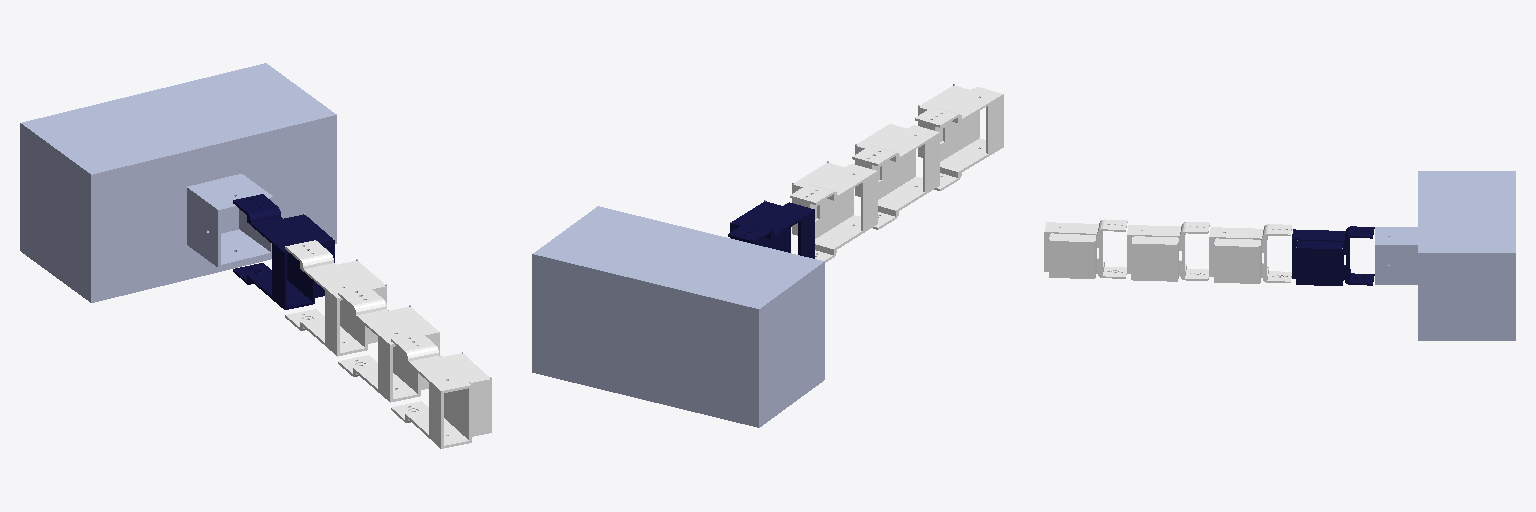
--- What the picture shows (computed from the rendered views, not written in the file) ---
Views: 3 orthographic renders of the robot side by side, from view 1: azimuth 30°, elevation 25°; view 2: azimuth 150°, elevation 25°; view 3: azimuth 270°, elevation 25°.
Model robot with 21 links and 20 joints (4 revolute, 1 continuous, 15 fixed), rooted at base_link, posed all joints at 0.
Links seen in each view (by area): view 1: base_link, link4, link1, link2, link3; view 2: base_link, link4, link3, link2, link1; view 3: base_link, link4, link3, link2, link1.
Boxes of the visible links, x1,y1,x2,y2 form: base_link: (20, 63, 336, 302); link4: (391, 332, 491, 448); link1: (233, 194, 334, 309); link2: (285, 240, 386, 356); link3: (338, 286, 439, 402); base_link: (532, 206, 824, 427); link4: (915, 86, 1003, 190); link3: (852, 124, 939, 229); link2: (790, 163, 877, 262); link1: (728, 201, 814, 258); base_link: (1375, 171, 1515, 340); link4: (1044, 219, 1127, 278); link3: (1127, 222, 1209, 281); link2: (1209, 224, 1291, 283); link1: (1292, 226, 1374, 285).
Size in the robot's own frame: 0.2 by 0.4851 by 0.1 metres.
20 mesh visuals loaded from 21 distinct referenced files (20 binary STL); not drawn: 1 (reference not matched to a file when rendering).

URDF robot description (robot):
<?xml version="1.0" encoding="utf-8"?>
<!-- This URDF was automatically created by SolidWorks to URDF Exporter! Originally created by Stephen Brawner ([email redacted]) 
     Commit Version: 1.6.0-4-g7f85cfe  Build Version: 1.6.7995.38578
     For more information, please see http://wiki.ros.org/sw_urdf_exporter -->
<robot
  name="robot">
  <link
    name="base_link">
    <inertial>
      <origin
        xyz="0.0767869538456745 0.130679643791146 0.117001328831927"
        rpy="0 0 0" />
      <mass
        value="2.01544073009183" />
      <inertia
        ixx="0.00342121118023554"
        ixy="7.6215930437138E-20"
        ixz="-6.41720559009519E-19"
        iyy="0.00842121118023554"
        iyz="9.0429788488783E-20"
        izz="0.00834287663238851" />
    </inertial>
    <visual>
      <origin
        xyz="0 0 0"
        rpy="0 0 0" />
      <geometry>
        <mesh
          filename="package://robot/meshes/base_link.STL" />
      </geometry>
      <material
        name="base">
        <color
          rgba="0.792156862745098 0.819607843137255 0.933333333333333 1" />
      </material>
    </visual>
    <collision>
      <origin
        xyz="0 0 0"
        rpy="0 0 0" />
      <geometry>
        <mesh
          filename="package://robot/meshes/base_link.STL" />
      </geometry>
    </collision>
  </link>
  <link
    name="link1">
    <inertial>
      <origin
        xyz="-0.0404047213887097 0.0154484736764687 -0.0276170125006411"
        rpy="0 0 0" />
      <mass
        value="0.0515137042914562" />
      <inertia
        ixx="1.69733943850497E-05"
        ixy="9.62296125977832E-07"
        ixz="6.49740529829731E-08"
        iyy="2.64576821046423E-05"
        iyz="1.35130974809218E-08"
        izz="2.12644109140584E-05" />
    </inertial>
    <visual>
      <origin
        xyz="0 0 0"
        rpy="0 0 0" />
      <geometry>
        <mesh
          filename="package://robot/meshes/link1.STL" />
      </geometry>
      <material
        name="joint_1_blue">
        <color
          rgba="0.11 0.11 0.32 1" />
      </material>
    </visual>
    <collision>
      <origin
        xyz="0 0 0"
        rpy="0 0 0" />
      <geometry>
        <mesh
          filename="package://robot/meshes/link1.STL" />
      </geometry>
    </collision>
  </link>
  <joint
    name="joint1"
    type="revolute">
    <origin
      xyz="0.076787 -0.22445 0.10293"
      rpy="3.1416 0 1.4999" />
    <parent
      link="base_link" />
    <child
      link="link1" />
    <axis
      xyz="0 0 -1" />
    <limit
      lower="-3.14"
      upper="3.14"
      effort="100"
      velocity="1" />
  </joint>
  <link
    name="l11">
    <inertial>
      <origin
        xyz="-0.00424576271186444 0.0005 0.000500000000000014"
        rpy="0 0 0" />
      <mass
        value="9.9999999999999E-07" />
      <inertia
        ixx="1.66666666666666E-13"
        ixy="3.5759750509846E-30"
        ixz="-4.97771231194458E-28"
        iyy="1.66666666666663E-13"
        iyz="-3.4912381323187E-29"
        izz="1.66666666666662E-13" />
    </inertial>
    <visual>
      <origin
        xyz="0 0 0"
        rpy="0 0 0" />
      <geometry>
        <mesh
          filename="package://robot/meshes/l11.STL" />
      </geometry>
      <material
        name="">
        <color
          rgba="0.792156862745098 0.819607843137255 0.933333333333333 1" />
      </material>
    </visual>
    <collision>
      <origin
        xyz="0 0 0"
        rpy="0 0 0" />
      <geometry>
        <mesh
          filename="package://robot/meshes/l11.STL" />
      </geometry>
    </collision>
  </link>
  <joint
    name="j11"
    type="fixed">
    <origin
      xyz="-0.022746 0.03 -0.048625"
      rpy="-1.5708 0 -3.1416" />
    <parent
      link="link1" />
    <child
      link="l11" />
    <axis
      xyz="0 0 0" />
  </joint>
  <link
    name="l12">
    <inertial>
      <origin
        xyz="-0.00424576271186443 0.000499999999999973 0.0005"
        rpy="0 0 0" />
      <mass
        value="9.99999999999991E-07" />
      <inertia
        ixx="1.66666666666665E-13"
        ixy="8.08583006419564E-30"
        ixz="-3.38421328339814E-28"
        iyy="1.66666666666665E-13"
        iyz="1.2121848489944E-29"
        izz="1.66666666666665E-13" />
    </inertial>
    <visual>
      <origin
        xyz="0 0 0"
        rpy="0 0 0" />
      <geometry>
        <mesh
          filename="package://robot/meshes/l12.STL" />
      </geometry>
      <material
        name="">
        <color
          rgba="0.792156862745098 0.819607843137255 0.933333333333333 1" />
      </material>
    </visual>
    <collision>
      <origin
        xyz="0 0 0"
        rpy="0 0 0" />
      <geometry>
        <mesh
          filename="package://robot/meshes/l12.STL" />
      </geometry>
    </collision>
  </link>
  <joint
    name="j12"
    type="fixed">
    <origin
      xyz="-0.0650000000000002 0.0337457627118641 -0.0486249999999999"
      rpy="-1.5707963267949 0 1.5707963267949" />
    <parent
      link="link1" />
    <child
      link="l12" />
    <axis
      xyz="0 0 0" />
  </joint>
  <link
    name="l13">
    <inertial>
      <origin
        xyz="-0.0005 0.000500000000000111 -0.000570670988878433"
        rpy="0 0 0" />
      <mass
        value="1.00000000000001E-06" />
      <inertia
        ixx="1.66666666666669E-13"
        ixy="1.84061188400856E-27"
        ixz="2.34922777574817E-27"
        iyy="1.6666666666667E-13"
        iyz="1.03898364163633E-30"
        izz="1.6666666666667E-13" />
    </inertial>
    <visual>
      <origin
        xyz="0 0 0"
        rpy="0 0 0" />
      <geometry>
        <mesh
          filename="package://robot/meshes/l13.STL" />
      </geometry>
      <material
        name="">
        <color
          rgba="0.792156862745098 0.819607843137255 0.933333333333333 1" />
      </material>
    </visual>
    <collision>
      <origin
        xyz="0 0 0"
        rpy="0 0 0" />
      <geometry>
        <mesh
          filename="package://robot/meshes/l13.STL" />
      </geometry>
    </collision>
  </link>
  <joint
    name="j13"
    type="continuous">
    <origin
      xyz="-0.0660000000000003 0.0119293290111216 -0.0486249999999999"
      rpy="-1.5707963267949 0 3.14159265358979" />
    <parent
      link="link1" />
    <child
      link="l13" />
    <axis
      xyz="0 0 1" />
  </joint>
  <link
    name="l14">
    <inertial>
      <origin
        xyz="-0.00424576271186441 0.000500000000000014 0.000499999999999973"
        rpy="0 0 0" />
      <mass
        value="1.00000000000002E-06" />
      <inertia
        ixx="1.66666666666672E-13"
        ixy="-5.03882836800957E-31"
        ixz="7.29000328879928E-30"
        iyy="1.66666666666671E-13"
        iyz="2.52435489670724E-29"
        izz="1.66666666666671E-13" />
    </inertial>
    <visual>
      <origin
        xyz="0 0 0"
        rpy="0 0 0" />
      <geometry>
        <mesh
          filename="package://robot/meshes/l14.STL" />
      </geometry>
      <material
        name="">
        <color
          rgba="0.792156862745098 0.819607843137255 0.933333333333333 1" />
      </material>
    </visual>
    <collision>
      <origin
        xyz="0 0 0"
        rpy="0 0 0" />
      <geometry>
        <mesh
          filename="package://robot/meshes/l14.STL" />
      </geometry>
    </collision>
  </link>
  <joint
    name="j14"
    type="fixed">
    <origin
      xyz="-0.0179999999999998 0.0119999999999997 -0.0448792372881355"
      rpy="3.14159265358979 -1.5707963267949 0" />
    <parent
      link="link1" />
    <child
      link="l14" />
    <axis
      xyz="0 0 0" />
  </joint>
  <link
    name="link2">
    <inertial>
      <origin
        xyz="-0.0404047213887095 0.0154484736764683 -0.0273670125006411"
        rpy="0 0 0" />
      <mass
        value="0.0515137042914563" />
      <inertia
        ixx="1.69733943850497E-05"
        ixy="9.62296125977808E-07"
        ixz="6.49740529829652E-08"
        iyy="2.64576821046424E-05"
        iyz="1.35130974809183E-08"
        izz="2.12644109140584E-05" />
    </inertial>
    <visual>
      <origin
        xyz="0 0 0"
        rpy="0 0 0" />
      <geometry>
        <mesh
          filename="package://robot/meshes/link2.STL" />
      </geometry>
      <material
        name="">
        <color
          rgba="1 1 1 1" />
      </material>
    </visual>
    <collision>
      <origin
        xyz="0 0 0"
        rpy="0 0 0" />
      <geometry>
        <mesh
          filename="package://robot/meshes/link2.STL" />
      </geometry>
    </collision>
  </link>
  <joint
    name="joint2"
    type="revolute">
    <origin
      xyz="-0.085 0 0"
      rpy="0 0 0" />
    <parent
      link="link1" />
    <child
      link="link2" />
    <axis
      xyz="0 0 -1" />
    <limit
      lower="-3.14"
      upper="3.14"
      effort="100"
      velocity="1" />
  </joint>
  <link
    name="l21">
    <inertial>
      <origin
        xyz="-0.00424576271186439 0.000500000000000028 0.000500000000000056"
        rpy="0 0 0" />
      <mass
        value="1E-06" />
      <inertia
        ixx="1.66666666666668E-13"
        ixy="1.94577253656323E-28"
        ixz="1.56431117505327E-27"
        iyy="1.66666666666667E-13"
        iyz="9.96287180478988E-29"
        izz="1.66666666666666E-13" />
    </inertial>
    <visual>
      <origin
        xyz="0 0 0"
        rpy="0 0 0" />
      <geometry>
        <mesh
          filename="package://robot/meshes/l21.STL" />
      </geometry>
      <material
        name="">
        <color
          rgba="0.792156862745098 0.819607843137255 0.933333333333333 1" />
      </material>
    </visual>
    <collision>
      <origin
        xyz="0 0 0"
        rpy="0 0 0" />
      <geometry>
        <mesh
          filename="package://robot/meshes/l21.STL" />
      </geometry>
    </collision>
  </link>
  <joint
    name="j21"
    type="fixed">
    <origin
      xyz="-0.0180000000000003 0.0337457627118644 -0.0483749999999998"
      rpy="-1.5707963267949 0 1.5707963267949" />
    <parent
      link="link2" />
    <child
      link="l21" />
    <axis
      xyz="0 0 0" />
  </joint>
  <link
    name="l22">
    <inertial>
      <origin
        xyz="-0.00424576271186439 0.000500000000000028 0.000500000000000014"
        rpy="0 0 0" />
      <mass
        value="1.00000000000001E-06" />
      <inertia
        ixx="1.66666666666669E-13"
        ixy="-1.45943744114174E-29"
        ixz="2.35080549755862E-27"
        iyy="1.6666666666667E-13"
        iyz="3.04659969061029E-29"
        izz="1.6666666666667E-13" />
    </inertial>
    <visual>
      <origin
        xyz="0 0 0"
        rpy="0 0 0" />
      <geometry>
        <mesh
          filename="package://robot/meshes/l22.STL" />
      </geometry>
      <material
        name="">
        <color
          rgba="0.792156862745098 0.819607843137255 0.933333333333333 1" />
      </material>
    </visual>
    <collision>
      <origin
        xyz="0 0 0"
        rpy="0 0 0" />
      <geometry>
        <mesh
          filename="package://robot/meshes/l22.STL" />
      </geometry>
    </collision>
  </link>
  <joint
    name="j22"
    type="fixed">
    <origin
      xyz="-0.0697457627118645 0.0299999999999999 -0.0483749999999998"
      rpy="-1.5707963267949 0 -3.14159265358979" />
    <parent
      link="link2" />
    <child
      link="l22" />
    <axis
      xyz="0 0 0" />
  </joint>
  <link
    name="l23">
    <inertial>
      <origin
        xyz="-0.00424576271186444 0.000499999999999973 0.000499999999999973"
        rpy="0 0 0" />
      <mass
        value="9.99999999999999E-07" />
      <inertia
        ixx="1.66666666666665E-13"
        ixy="1.7607375404533E-27"
        ixz="-6.85915040546216E-30"
        iyy="1.66666666666668E-13"
        iyz="-5.40887263464013E-31"
        izz="1.66666666666666E-13" />
    </inertial>
    <visual>
      <origin
        xyz="0 0 0"
        rpy="0 0 0" />
      <geometry>
        <mesh
          filename="package://robot/meshes/l23.STL" />
      </geometry>
      <material
        name="">
        <color
          rgba="0.792156862745098 0.819607843137255 0.933333333333333 1" />
      </material>
    </visual>
    <collision>
      <origin
        xyz="0 0 0"
        rpy="0 0 0" />
      <geometry>
        <mesh
          filename="package://robot/meshes/l23.STL" />
      </geometry>
    </collision>
  </link>
  <joint
    name="j23"
    type="fixed">
    <origin
      xyz="-0.0697457627118642 0.0119999999999996 -0.0483750000000007"
      rpy="3.14159265358979 0 -3.14159265358979" />
    <parent
      link="link2" />
    <child
      link="l23" />
    <axis
      xyz="0 0 0" />
  </joint>
  <link
    name="l24">
    <inertial>
      <origin
        xyz="-0.00424576271184707 0.000499999999973244 0.000500000000000014"
        rpy="0 0 0" />
      <mass
        value="1.00000000000001E-06" />
      <inertia
        ixx="1.66666666666669E-13"
        ixy="-6.5455506841898E-28"
        ixz="2.05656037991118E-27"
        iyy="1.66666666666671E-13"
        iyz="3.92850989370063E-28"
        izz="1.66666666666669E-13" />
    </inertial>
    <visual>
      <origin
        xyz="0 0 0"
        rpy="0 0 0" />
      <geometry>
        <mesh
          filename="package://robot/meshes/l24.STL" />
      </geometry>
      <material
        name="">
        <color
          rgba="0.792156862745098 0.819607843137255 0.933333333333333 1" />
      </material>
    </visual>
    <collision>
      <origin
        xyz="0 0 0"
        rpy="0 0 0" />
      <geometry>
        <mesh
          filename="package://robot/meshes/l24.STL" />
      </geometry>
    </collision>
  </link>
  <joint
    name="j24"
    type="fixed">
    <origin
      xyz="-0.0227457627118562 0.0129999999999997 -0.0483750000000177"
      rpy="-1.5707963267949 0 -3.14159265358979" />
    <parent
      link="link2" />
    <child
      link="l24" />
    <axis
      xyz="0 0 0" />
  </joint>
  <link
    name="link3">
    <inertial>
      <origin
        xyz="-0.0404047213887101 0.015448473676468 -0.0271170125006416"
        rpy="0 0 0" />
      <mass
        value="0.0515137042914563" />
      <inertia
        ixx="1.69733943850497E-05"
        ixy="9.62296125977846E-07"
        ixz="6.49740529829482E-08"
        iyy="2.64576821046424E-05"
        iyz="1.35130974808098E-08"
        izz="2.12644109140585E-05" />
    </inertial>
    <visual>
      <origin
        xyz="0 0 0"
        rpy="0 0 0" />
      <geometry>
        <mesh
          filename="package://robot/meshes/link3.STL" />
      </geometry>
      <material
        name="">
        <color
          rgba="1 1 1 1" />
      </material>
    </visual>
    <collision>
      <origin
        xyz="0 0 0"
        rpy="0 0 0" />
      <geometry>
        <mesh
          filename="package://robot/meshes/link3.STL" />
      </geometry>
    </collision>
  </link>
  <joint
    name="joint3"
    type="revolute">
    <origin
      xyz="-0.085 0 0"
      rpy="0 0 0" />
    <parent
      link="link2" />
    <child
      link="link3" />
    <axis
      xyz="0 0 -1" />
    <limit
      lower="-3.14"
      upper="3.14"
      effort="100"
      velocity="1" />
  </joint>
  <link
    name="l31">
    <inertial>
      <origin
        xyz="-0.00424576271186444 0.000500000000000028 0.000499999999999973"
        rpy="0 0 0" />
      <mass
        value="1.00000000000001E-06" />
      <inertia
        ixx="1.66666666666669E-13"
        ixy="2.56746529381726E-29"
        ixz="2.38157107286223E-27"
        iyy="1.6666666666667E-13"
        iyz="1.57296505576981E-29"
        izz="1.6666666666667E-13" />
    </inertial>
    <visual>
      <origin
        xyz="0 0 0"
        rpy="0 0 0" />
      <geometry>
        <mesh
          filename="package://robot/meshes/l31.STL" />
      </geometry>
      <material
        name="">
        <color
          rgba="0.792156862745098 0.819607843137255 0.933333333333333 1" />
      </material>
    </visual>
    <collision>
      <origin
        xyz="0 0 0"
        rpy="0 0 0" />
      <geometry>
        <mesh
          filename="package://robot/meshes/l31.STL" />
      </geometry>
    </collision>
  </link>
  <joint
    name="j31"
    type="fixed">
    <origin
      xyz="-0.0227457627118653 0.0299999999999978 -0.0481250000000009"
      rpy="-1.57079632679487 0 -3.14159265358979" />
    <parent
      link="link3" />
    <child
      link="l31" />
    <axis
      xyz="0 0 0" />
  </joint>
  <link
    name="l32">
    <inertial>
      <origin
        xyz="-0.0042457627118644 0.000500000000000028 0.0005"
        rpy="0 0 0" />
      <mass
        value="1.00000000000001E-06" />
      <inertia
        ixx="1.6666666666667E-13"
        ixy="-9.19796940490373E-30"
        ixz="-2.33818372307508E-27"
        iyy="1.66666666666671E-13"
        iyz="-1.19338250791653E-29"
        izz="1.6666666666667E-13" />
    </inertial>
    <visual>
      <origin
        xyz="0 0 0"
        rpy="0 0 0" />
      <geometry>
        <mesh
          filename="package://robot/meshes/l32.STL" />
      </geometry>
      <material
        name="">
        <color
          rgba="0.792156862745098 0.819607843137255 0.933333333333333 1" />
      </material>
    </visual>
    <collision>
      <origin
        xyz="0 0 0"
        rpy="0 0 0" />
      <geometry>
        <mesh
          filename="package://robot/meshes/l32.STL" />
      </geometry>
    </collision>
  </link>
  <joint
    name="j32"
    type="fixed">
    <origin
      xyz="-0.0650000000000006 0.0167457627118633 -0.0481250000000004"
      rpy="-1.5707963267949 0 1.5707963267949" />
    <parent
      link="link3" />
    <child
      link="l32" />
    <axis
      xyz="0 0 0" />
  </joint>
  <link
    name="l33">
    <inertial>
      <origin
        xyz="-0.0042457627118644 0.000500000000000028 0.0005"
        rpy="0 0 0" />
      <mass
        value="1.00000000000001E-06" />
      <inertia
        ixx="1.6666666666667E-13"
        ixy="-9.19796940490375E-30"
        ixz="-2.33818372307508E-27"
        iyy="1.66666666666671E-13"
        iyz="-1.19338250791653E-29"
        izz="1.6666666666667E-13" />
    </inertial>
    <visual>
      <origin
        xyz="0 0 0"
        rpy="0 0 0" />
      <geometry>
        <mesh
          filename="package://robot/meshes/l33.STL" />
      </geometry>
      <material
        name="">
        <color
          rgba="0.792156862745098 0.819607843137255 0.933333333333333 1" />
      </material>
    </visual>
    <collision>
      <origin
        xyz="0 0 0"
        rpy="0 0 0" />
      <geometry>
        <mesh
          filename="package://robot/meshes/l33.STL" />
      </geometry>
    </collision>
  </link>
  <joint
    name="j33"
    type="fixed">
    <origin
      xyz="-0.0650000000000006 0.0167457627118633 -0.0481250000000004"
      rpy="-1.5707963267949 0 1.5707963267949" />
    <parent
      link="link3" />
    <child
      link="l33" />
    <axis
      xyz="0 0 0" />
  </joint>
  <link
    name="l34">
    <inertial>
      <origin
        xyz="-0.00424576271186461 0.0005 0.000499999999955703"
        rpy="0 0 0" />
      <mass
        value="9.99999999999994E-07" />
      <inertia
        ixx="1.66666666666665E-13"
        ixy="-6.29227027260607E-28"
        ixz="6.91480973098766E-28"
        iyy="1.66666666666666E-13"
        iyz="-4.84360595805701E-28"
        izz="1.66666666666665E-13" />
    </inertial>
    <visual>
      <origin
        xyz="0 0 0"
        rpy="0 0 0" />
      <geometry>
        <mesh
          filename="package://robot/meshes/l34.STL" />
      </geometry>
      <material
        name="">
        <color
          rgba="0.792156862745098 0.819607843137255 0.933333333333333 1" />
      </material>
    </visual>
    <collision>
      <origin
        xyz="0 0 0"
        rpy="0 0 0" />
      <geometry>
        <mesh
          filename="package://robot/meshes/l34.STL" />
      </geometry>
    </collision>
  </link>
  <joint
    name="j34"
    type="fixed">
    <origin
      xyz="-0.018000000000045 0.0129999999999988 -0.052870762711865"
      rpy="3.14159265358979 1.5707963267949 0" />
    <parent
      link="link3" />
    <child
      link="l34" />
    <axis
      xyz="0 0 0" />
  </joint>
  <link
    name="link4">
    <inertial>
      <origin
        xyz="-0.040404721388714 0.0154484736764674 -0.0268670125006414"
        rpy="0 0 0" />
      <mass
        value="0.0515137042914562" />
      <inertia
        ixx="1.69733943850496E-05"
        ixy="9.62296125977827E-07"
        ixz="6.4974052982973E-08"
        iyy="2.64576821046423E-05"
        iyz="1.35130974808312E-08"
        izz="2.12644109140584E-05" />
    </inertial>
    <visual>
      <origin
        xyz="0 0 0"
        rpy="0 0 0" />
      <geometry>
        <mesh
          filename="package://robot/meshes/link4.STL" />
      </geometry>
      <material
        name="">
        <color
          rgba="1 1 1 1" />
      </material>
    </visual>
    <collision>
      <origin
        xyz="0 0 0"
        rpy="0 0 0" />
      <geometry>
        <mesh
          filename="package://robot/meshes/link4.STL" />
      </geometry>
    </collision>
  </link>
  <joint
    name="joint4"
    type="revolute">
    <origin
      xyz="-0.085 0 0"
      rpy="0 0 0.018445" />
    <parent
      link="link3" />
    <child
      link="link4" />
    <axis
      xyz="0 0 -1" />
    <limit
      lower="-3.14"
      upper="3.14"
      effort="100"
      velocity="1" />
  </joint>
  <link
    name="l41">
    <inertial>
      <origin
        xyz="-0.00424576271186439 0.0005 0.000500000000000056"
        rpy="0 0 0" />
      <mass
        value="9.99999999999989E-07" />
      <inertia
        ixx="1.66666666666661E-13"
        ixy="1.65311288176915E-29"
        ixz="-3.49623153193952E-27"
        iyy="1.66666666666663E-13"
        iyz="-7.58790106341303E-30"
        izz="1.66666666666667E-13" />
    </inertial>
    <visual>
      <origin
        xyz="0 0 0"
        rpy="0 0 0" />
      <geometry>
        <mesh
          filename="package://robot/meshes/l41.STL" />
      </geometry>
      <material
        name="">
        <color
          rgba="0.792156862745098 0.819607843137255 0.933333333333333 1" />
      </material>
    </visual>
    <collision>
      <origin
        xyz="0 0 0"
        rpy="0 0 0" />
      <geometry>
        <mesh
          filename="package://robot/meshes/l41.STL" />
      </geometry>
    </collision>
  </link>
  <joint
    name="j41"
    type="fixed">
    <origin
      xyz="-0.0180000000000041 0.0337457627118618 -0.0478750000000007"
      rpy="-1.5707963267949 0 1.5707963267949" />
    <parent
      link="link4" />
    <child
      link="l41" />
    <axis
      xyz="0 0 0" />
  </joint>
  <link
    name="l42">
    <inertial>
      <origin
        xyz="-0.00424576271186439 0.0005 0.000500000000000167"
        rpy="0 0 0" />
      <mass
        value="9.99999999999989E-07" />
      <inertia
        ixx="1.66666666666661E-13"
        ixy="1.38404528458191E-29"
        ixz="-3.49780925374997E-27"
        iyy="1.66666666666663E-13"
        iyz="4.44577170669531E-30"
        izz="1.66666666666667E-13" />
    </inertial>
    <visual>
      <origin
        xyz="0 0 0"
        rpy="0 0 0" />
      <geometry>
        <mesh
          filename="package://robot/meshes/l42.STL" />
      </geometry>
      <material
        name="">
        <color
          rgba="0.792156862745098 0.819607843137255 0.933333333333333 1" />
      </material>
    </visual>
    <collision>
      <origin
        xyz="0 0 0"
        rpy="0 0 0" />
      <geometry>
        <mesh
          filename="package://robot/meshes/l42.STL" />
      </geometry>
    </collision>
  </link>
  <joint
    name="j42"
    type="fixed">
    <origin
      xyz="-0.0650000000000022 0.0337457627118601 -0.0478750000000005"
      rpy="-1.5707963267949 0 1.5707963267949" />
    <parent
      link="link4" />
    <child
      link="l42" />
    <axis
      xyz="0 0 0" />
  </joint>
  <link
    name="l43">
    <inertial>
      <origin
        xyz="-0.00424576271186441 0.000499999999999945 0.000500000000000028"
        rpy="0 0 0" />
      <mass
        value="1.00000000000006E-06" />
      <inertia
        ixx="1.66666666666689E-13"
        ixy="1.4272790295969E-28"
        ixz="2.42275704682493E-28"
        iyy="1.66666666666676E-13"
        iyz="-5.26959084687636E-28"
        izz="1.66666666666688E-13" />
    </inertial>
    <visual>
      <origin
        xyz="0 0 0"
        rpy="0 0 0" />
      <geometry>
        <mesh
          filename="package://robot/meshes/l43.STL" />
      </geometry>
      <material
        name="">
        <color
          rgba="0.792156862745098 0.819607843137255 0.933333333333333 1" />
      </material>
    </visual>
    <collision>
      <origin
        xyz="0 0 0"
        rpy="0 0 0" />
      <geometry>
        <mesh
          filename="package://robot/meshes/l43.STL" />
      </geometry>
    </collision>
  </link>
  <joint
    name="j43"
    type="fixed">
    <origin
      xyz="-0.065000000000004 0.0129999999999986 -0.044129237288136"
      rpy="1.5707963267949 -1.5707963267949 0" />
    <parent
      link="link4" />
    <child
      link="l43" />
    <axis
      xyz="0 0 0" />
  </joint>
  <link
    name="l44">
    <inertial>
      <origin
        xyz="-0.0042457627118644 0.000500000000000028 0.000500000000000056"
        rpy="0 0 0" />
      <mass
        value="1E-06" />
      <inertia
        ixx="1.66666666666665E-13"
        ixy="-2.18333366014784E-28"
        ixz="-1.64714157010147E-27"
        iyy="1.66666666666666E-13"
        iyz="-9.57093657315728E-29"
        izz="1.66666666666669E-13" />
    </inertial>
    <visual>
      <origin
        xyz="0 0 0"
        rpy="0 0 0" />
      <geometry>
        <mesh
          filename="package://robot/meshes/l44.STL" />
      </geometry>
      <material
        name="">
        <color
          rgba="0.792156862745098 0.819607843137255 0.933333333333333 1" />
      </material>
    </visual>
    <collision>
      <origin
        xyz="0 0 0"
        rpy="0 0 0" />
      <geometry>
        <mesh
          filename="package://robot/meshes/l44.STL" />
      </geometry>
    </collision>
  </link>
  <joint
    name="j44"
    type="fixed">
    <origin
      xyz="-0.018 0.016746 -0.047875"
      rpy="-1.5708 0 1.5708" />
    <parent
      link="link4" />
    <child
      link="l44" />
    <axis
      xyz="0 0 0" />
  </joint>
</robot>
